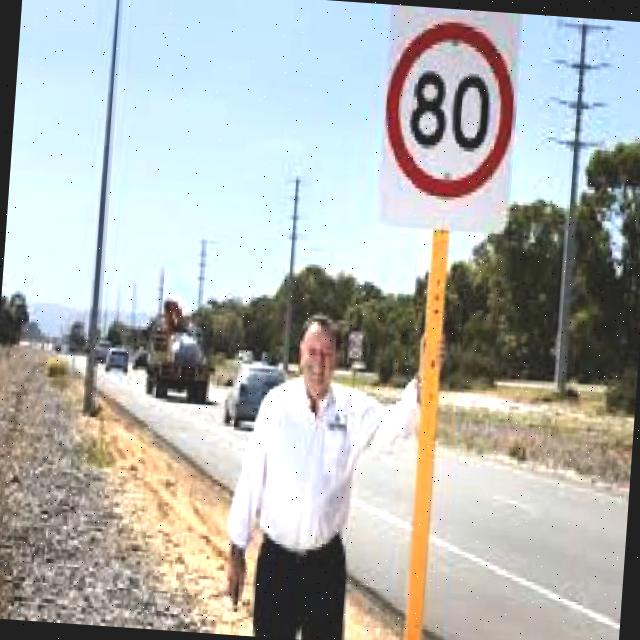Ograniczenie predkosci do 80: (382, 18, 518, 197)
